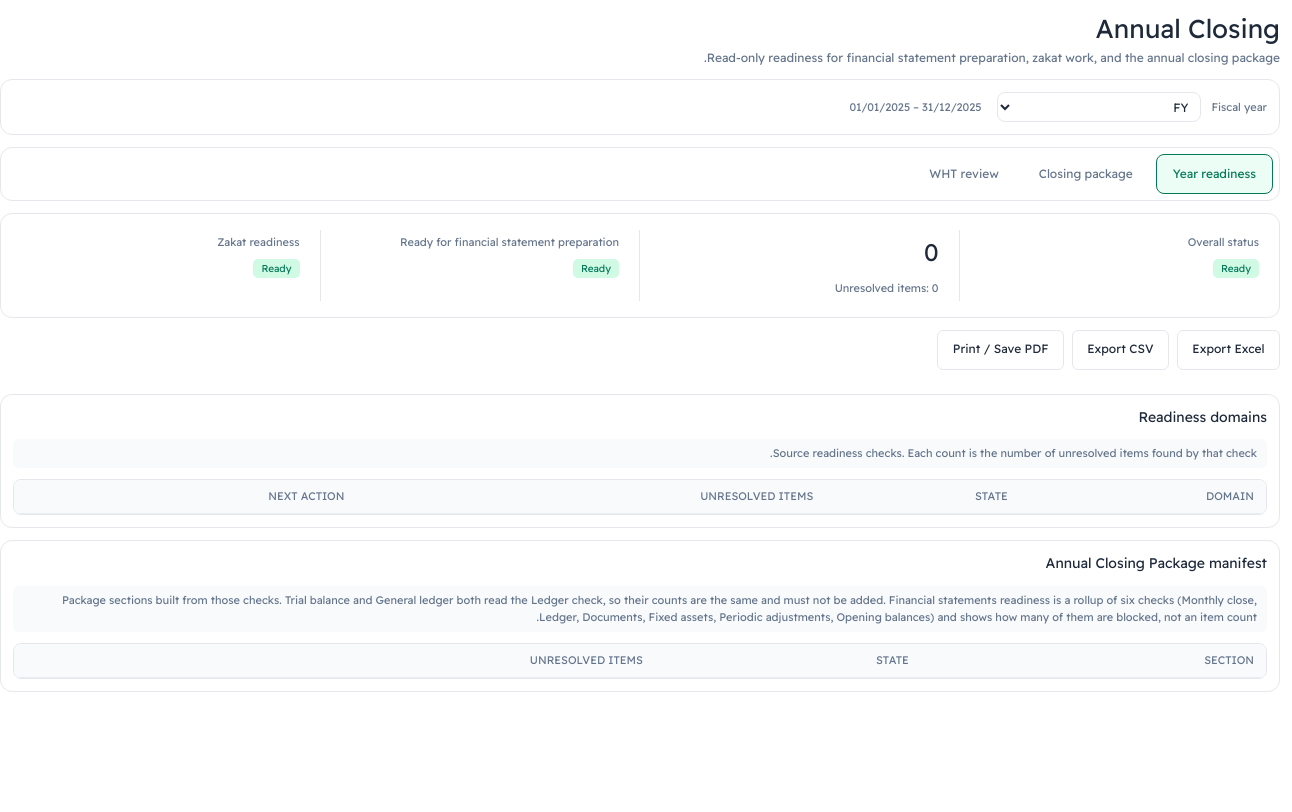
Scenario: Annual Closing Center › renders capability-sensitive package actions and internal-handoff wording
Click the tab "Closing package".
click(1086, 174)  # box [1022,154,1150,194]
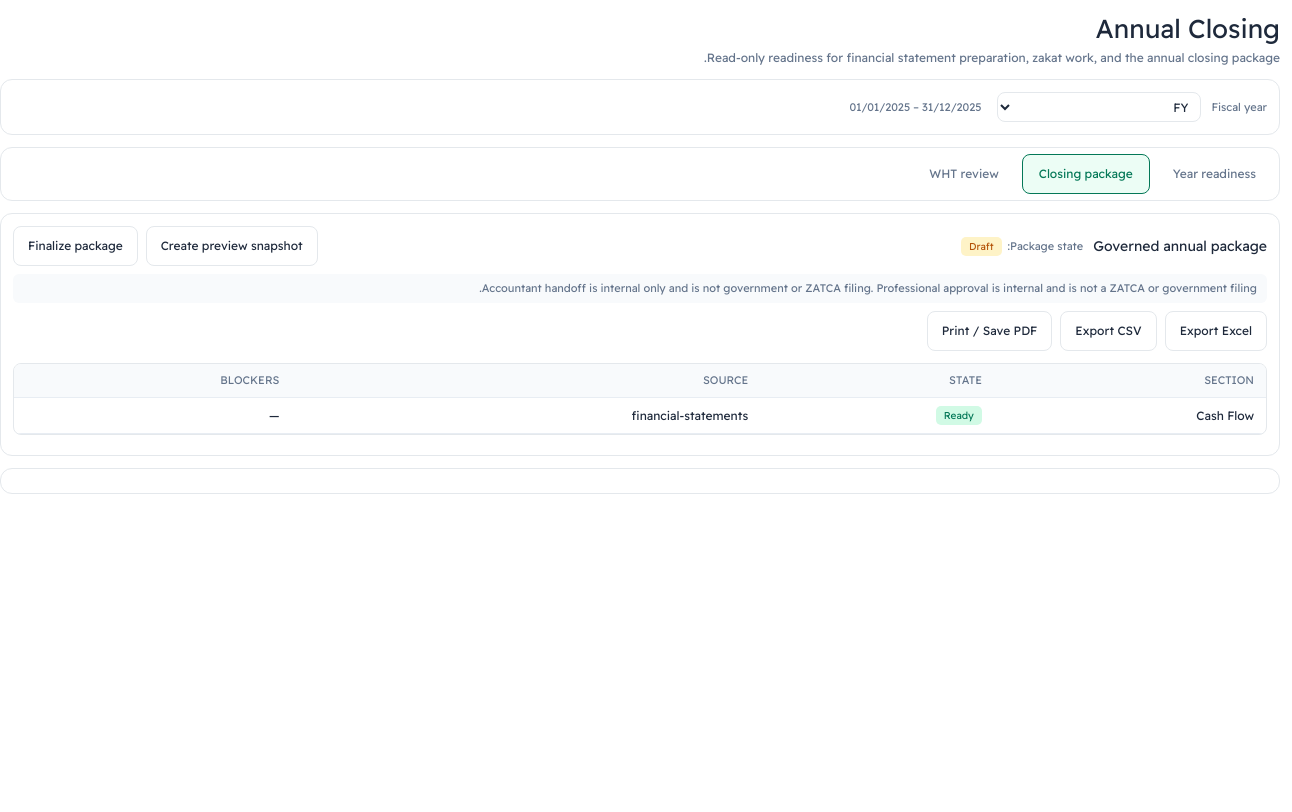
Expected: the button "Create preview snapshot" is shown, [146,226,318,266]
Expected: the button "Finalize package" is shown, [13,226,138,266]
Expected: the text "not government or ZATCA filing" is shown, [479,281,1257,295]
